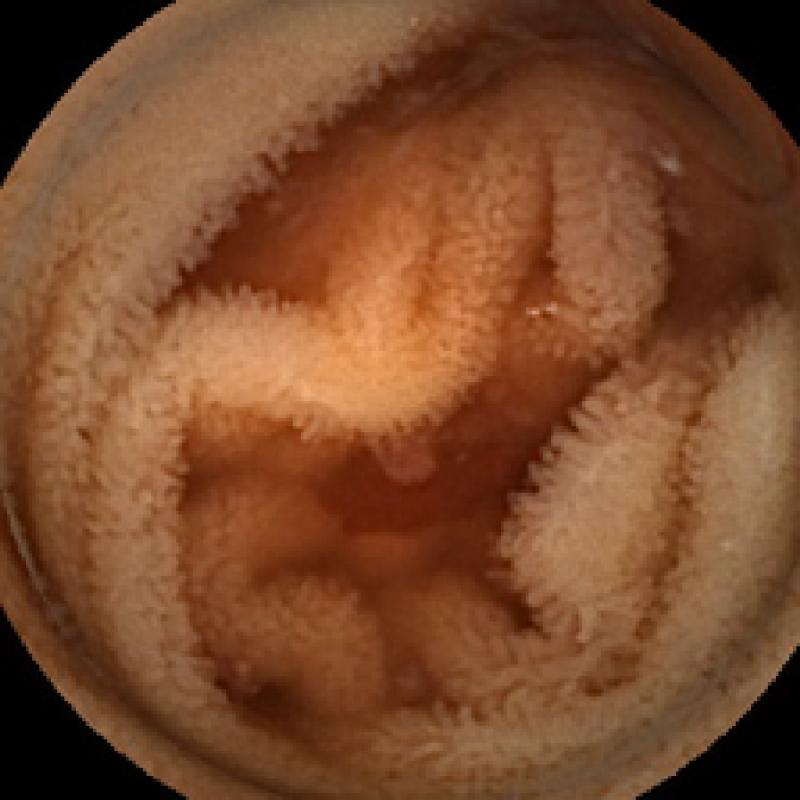bleeding: (321, 443, 543, 546)
